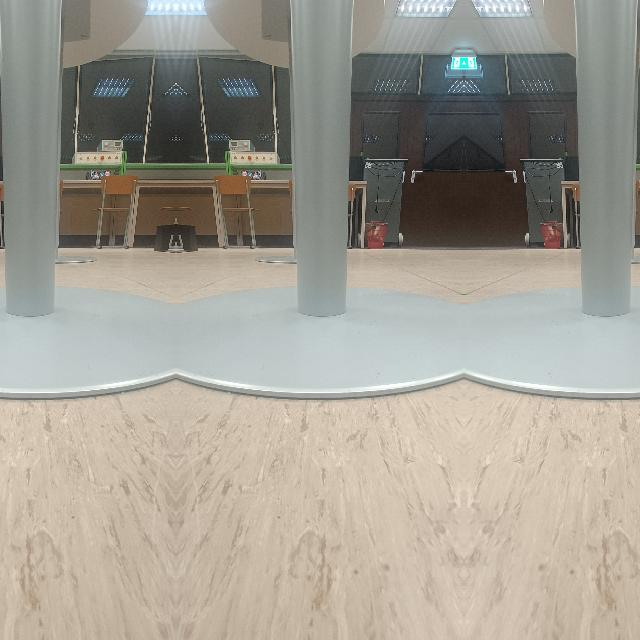obstacle: (175, 154, 462, 402), (465, 153, 640, 402), (0, 153, 174, 402)
